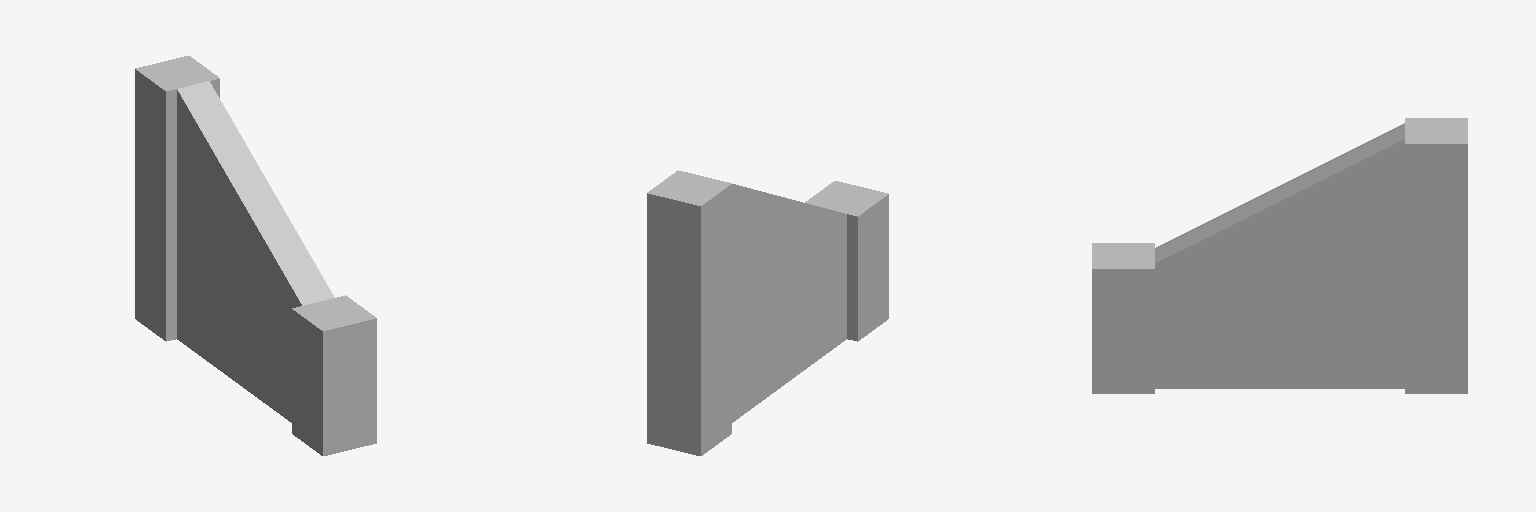
The model's file is Wood_Slanted_Wall_01.obj.
3 views of the same model, side by side, from view 1: azimuth 30°, elevation 25°; view 2: azimuth 150°, elevation 25°; view 3: azimuth 270°, elevation 25° (orthographic).
Visible parts, largest first — view 1: Mesh1 Wood_Slanted_Wall Model; view 2: Mesh1 Wood_Slanted_Wall Model; view 3: Mesh1 Wood_Slanted_Wall Model.
Boxes of the visible parts, x1=… form: Mesh1 Wood_Slanted_Wall Model: x1=135, y1=56, x2=376, y2=455; Mesh1 Wood_Slanted_Wall Model: x1=647, y1=170, x2=888, y2=455; Mesh1 Wood_Slanted_Wall Model: x1=1092, y1=118, x2=1467, y2=393.
Bounding box in the file's own units: 0.5 × 2.2 × 3.